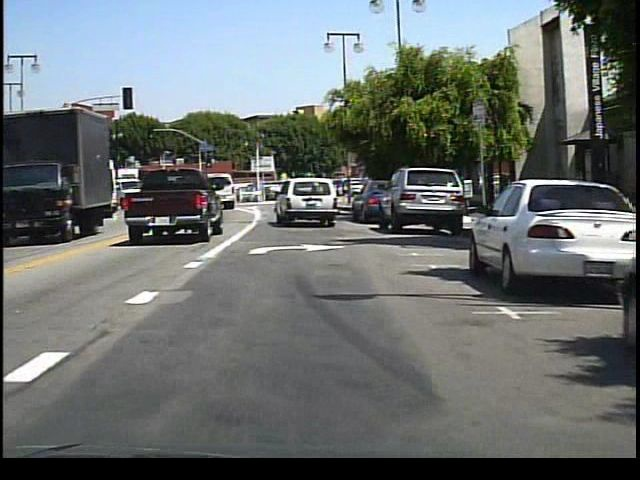person: (337, 179, 350, 206)
